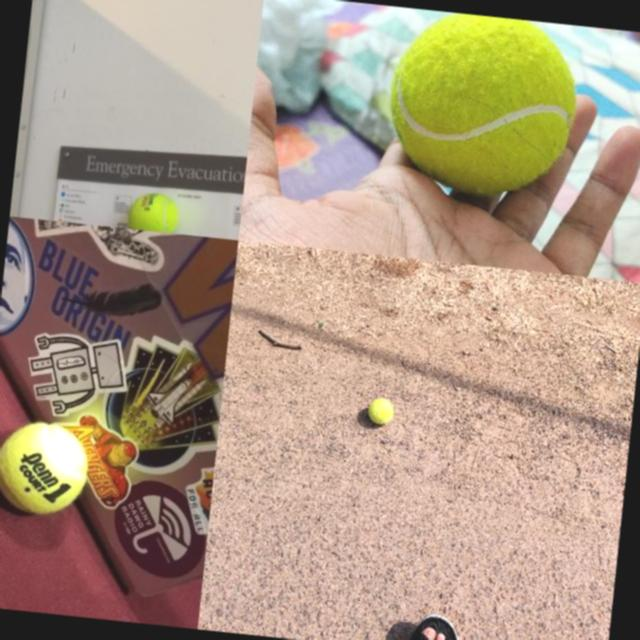tennis-ball: (379, 7, 583, 205), (0, 417, 91, 519), (126, 190, 182, 232), (367, 398, 394, 425)
